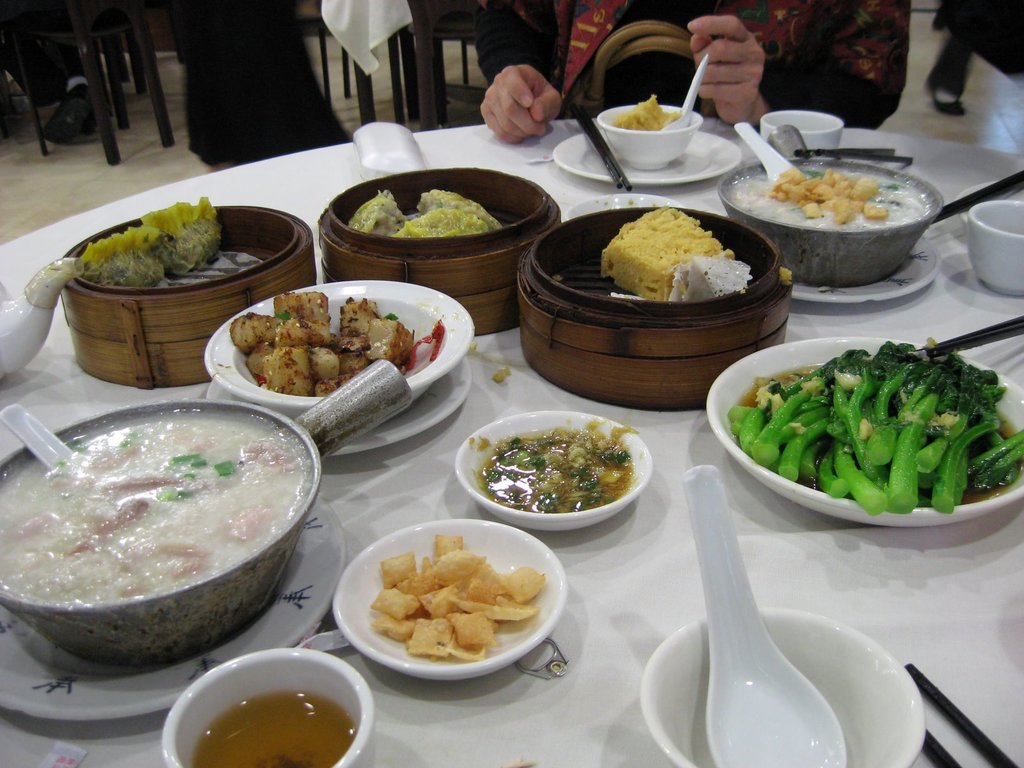person: (163, 0, 352, 171)
